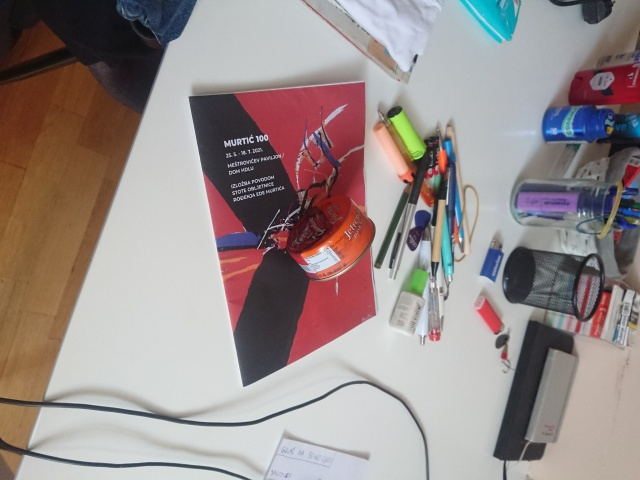Gavrilovic Pork Liver Pate 100g: (283, 192, 377, 284)
